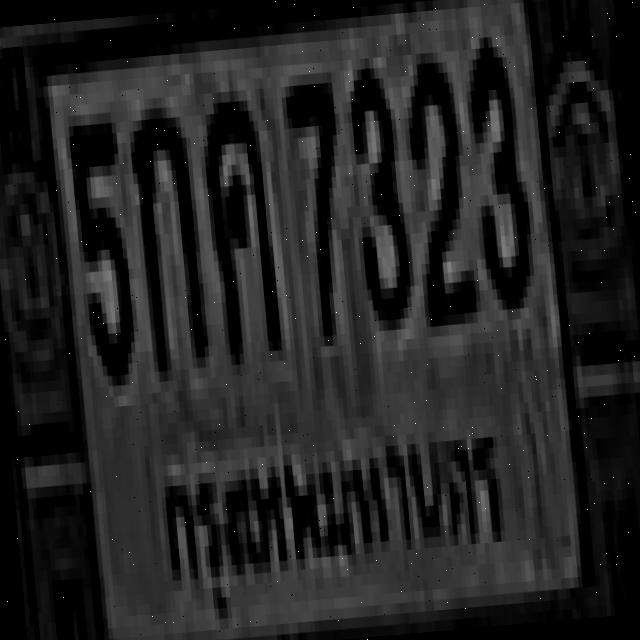10GorGai: (126, 95, 206, 372)
13KhorKhwai: (195, 88, 278, 356)
2: (398, 51, 472, 316)
3: (462, 34, 532, 300), (342, 56, 412, 322)
5: (65, 111, 135, 378)
7: (280, 71, 350, 338)
Bangkok: (141, 397, 521, 632)
